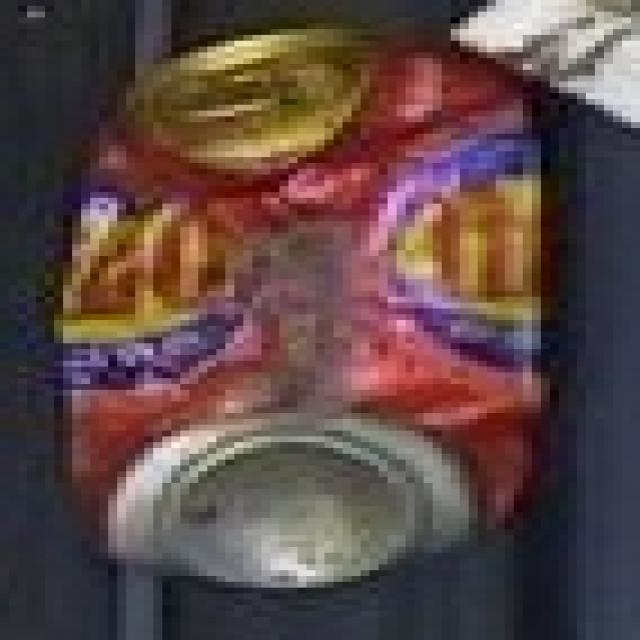litter: (52, 14, 586, 601)
